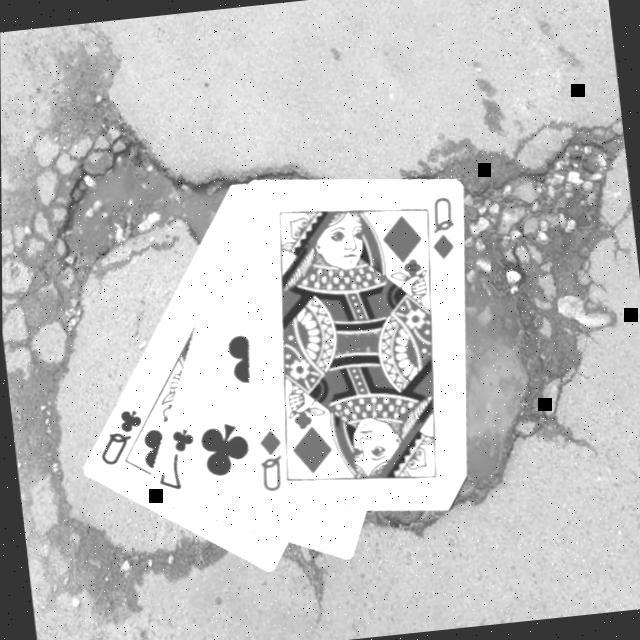7C: (149, 423, 203, 495)
QC: (92, 403, 150, 468)
QD: (425, 190, 462, 263), (253, 424, 290, 495)
